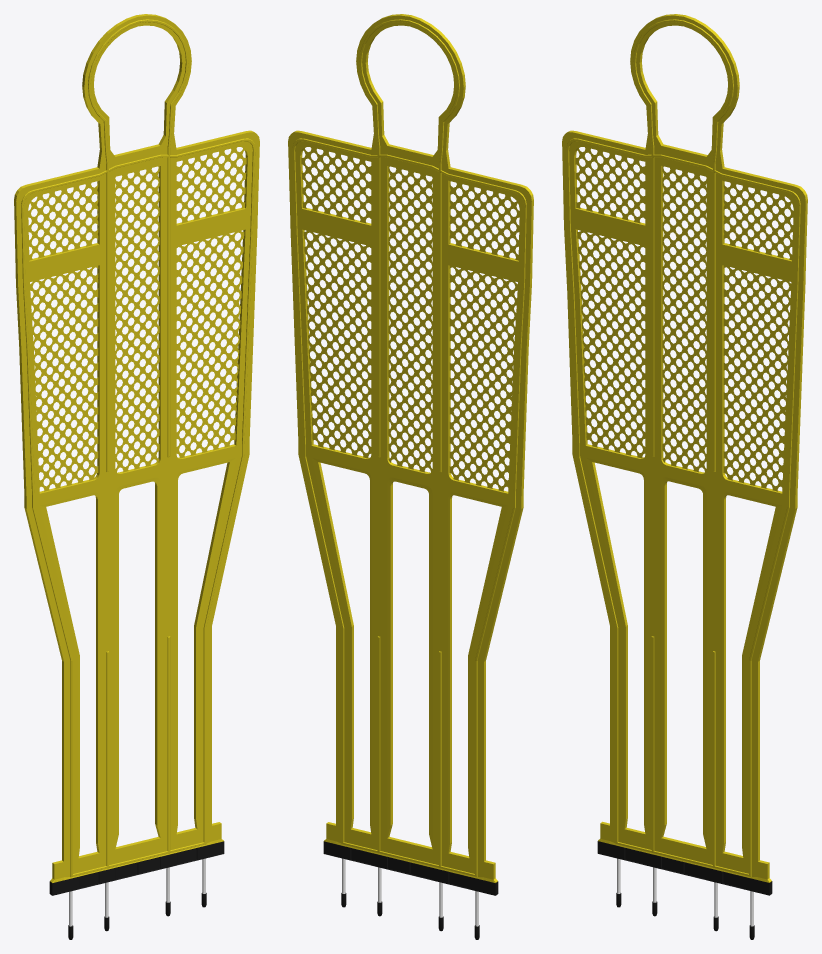
The model's file is football barrier.fbx.
3 renders of one model, left to right at view 1: azimuth 30°, elevation 25°; view 2: azimuth 150°, elevation 25°; view 3: azimuth 330°, elevation 25°, orthographic.
Visible parts, largest first — view 1: Plane, Plane.001; view 2: Plane, Plane.001; view 3: Plane, Plane.001.
Part boxes in pixels (x1,y1,x2,y2): Plane: (14, 14, 259, 895); Plane.001: (28, 147, 246, 491); Plane: (288, 14, 533, 895); Plane.001: (301, 147, 519, 491); Plane: (562, 14, 807, 895); Plane.001: (575, 147, 793, 491).
Size of the model in its own units: 1317 by 4684 by 31.78.
